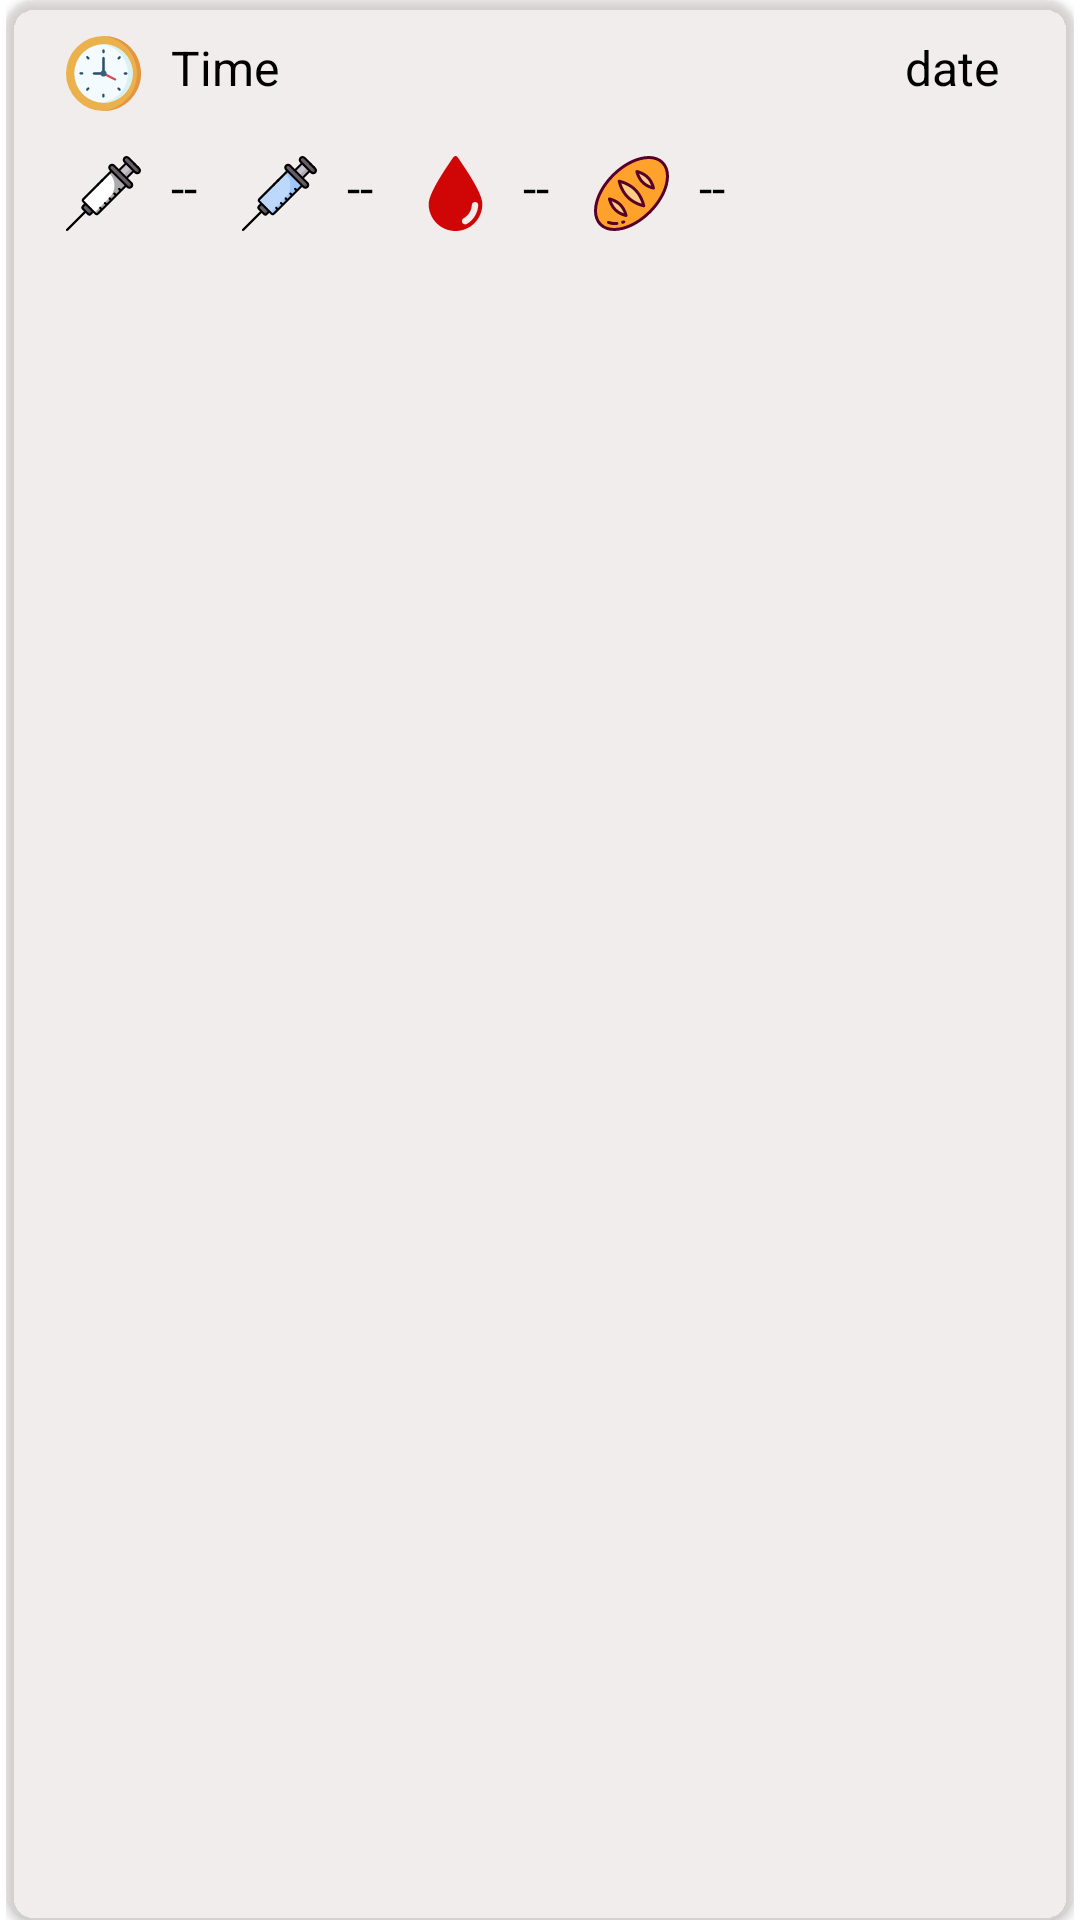

Screen size 1080×1920. Icon name, then its box in pixels as (x1, y1, x2, y2):
clock: (66, 36, 141, 111)
drop blood: (428, 156, 483, 231)
loaf: (594, 156, 669, 231)
